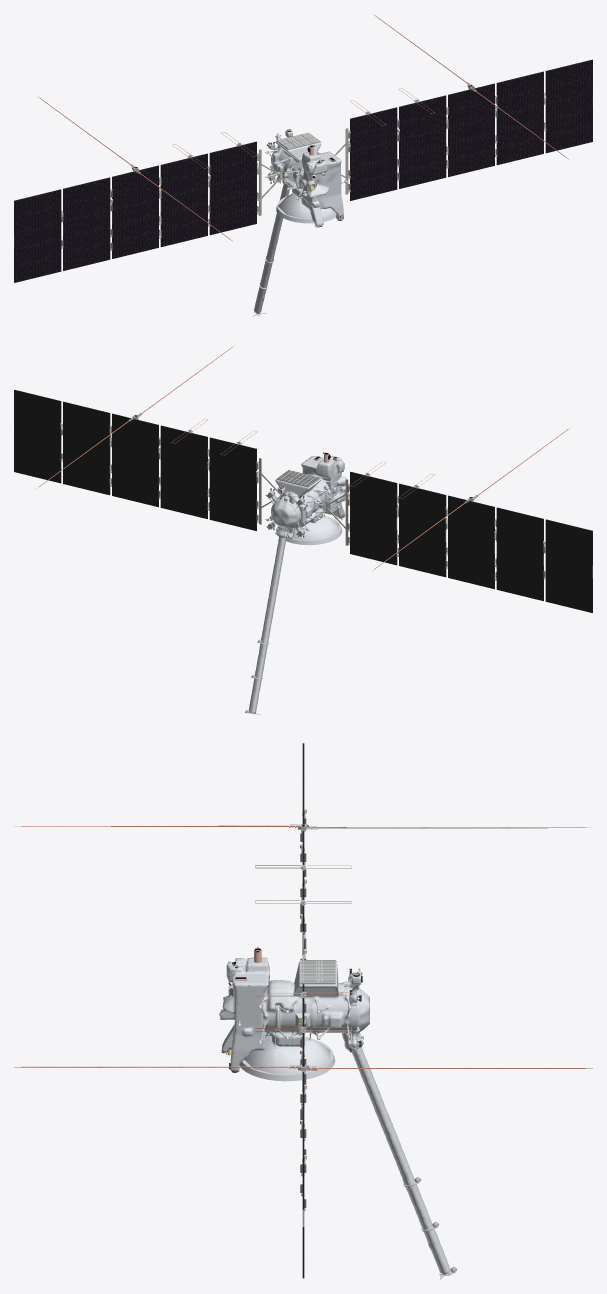
File: europa-clipper.glb
The picture shows the model from 3 angles, top to bottom: view 1: azimuth 30°, elevation 25°; view 2: azimuth 150°, elevation 25°; view 3: azimuth 270°, elevation 25°; orthographic projection. The views are drawn at different scales.
Parts seen in each view (by area): view 1: solar_cells, solar_cells_chassis, blanket_hideable, blanket_soft, reason, bus_exposed, blanket_hard; view 2: solar_cells_chassis, blanket_hideable, blanket_soft, reason, bus_exposed, blanket_hard; view 3: blanket_hideable, blanket_soft, reason, solar_cells_chassis, blanket_hard, bus_exposed.
Part boxes in pixels (x1,y1,x2,y2): solar_cells: [14, 60, 592, 282]; solar_cells_chassis: [14, 59, 592, 282]; blanket_hideable: [254, 130, 343, 314]; blanket_soft: [268, 135, 333, 218]; reason: [37, 15, 568, 241]; bus_exposed: [265, 132, 347, 227]; blanket_hard: [267, 150, 345, 223]; solar_cells_chassis: [14, 389, 592, 612]; blanket_hideable: [249, 456, 349, 713]; blanket_soft: [270, 474, 338, 540]; reason: [36, 345, 571, 570]; bus_exposed: [265, 470, 345, 539]; blanket_hard: [267, 472, 345, 545]; blanket_hideable: [220, 957, 450, 1274]; blanket_soft: [244, 961, 369, 1074]; reason: [14, 824, 592, 1071]; solar_cells_chassis: [298, 743, 306, 1278]; blanket_hard: [238, 976, 351, 1081]; bus_exposed: [221, 960, 363, 1053].
Bounding box in the file's own units: 30.5 × 11.25 × 18.
Materials: 16 (13 with a texture image).
